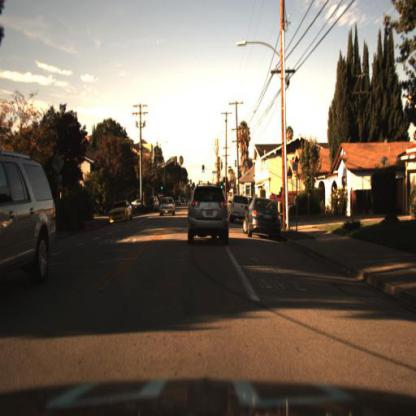car: (2, 153, 59, 296), (181, 179, 234, 254), (242, 194, 286, 239), (104, 188, 137, 228), (225, 193, 249, 232), (158, 194, 179, 223)
trafficLight: (200, 164, 208, 177), (158, 183, 164, 196), (221, 183, 226, 196), (224, 181, 228, 192)
trafficLight-Green: (201, 164, 207, 177), (159, 182, 166, 193), (223, 179, 228, 191)
